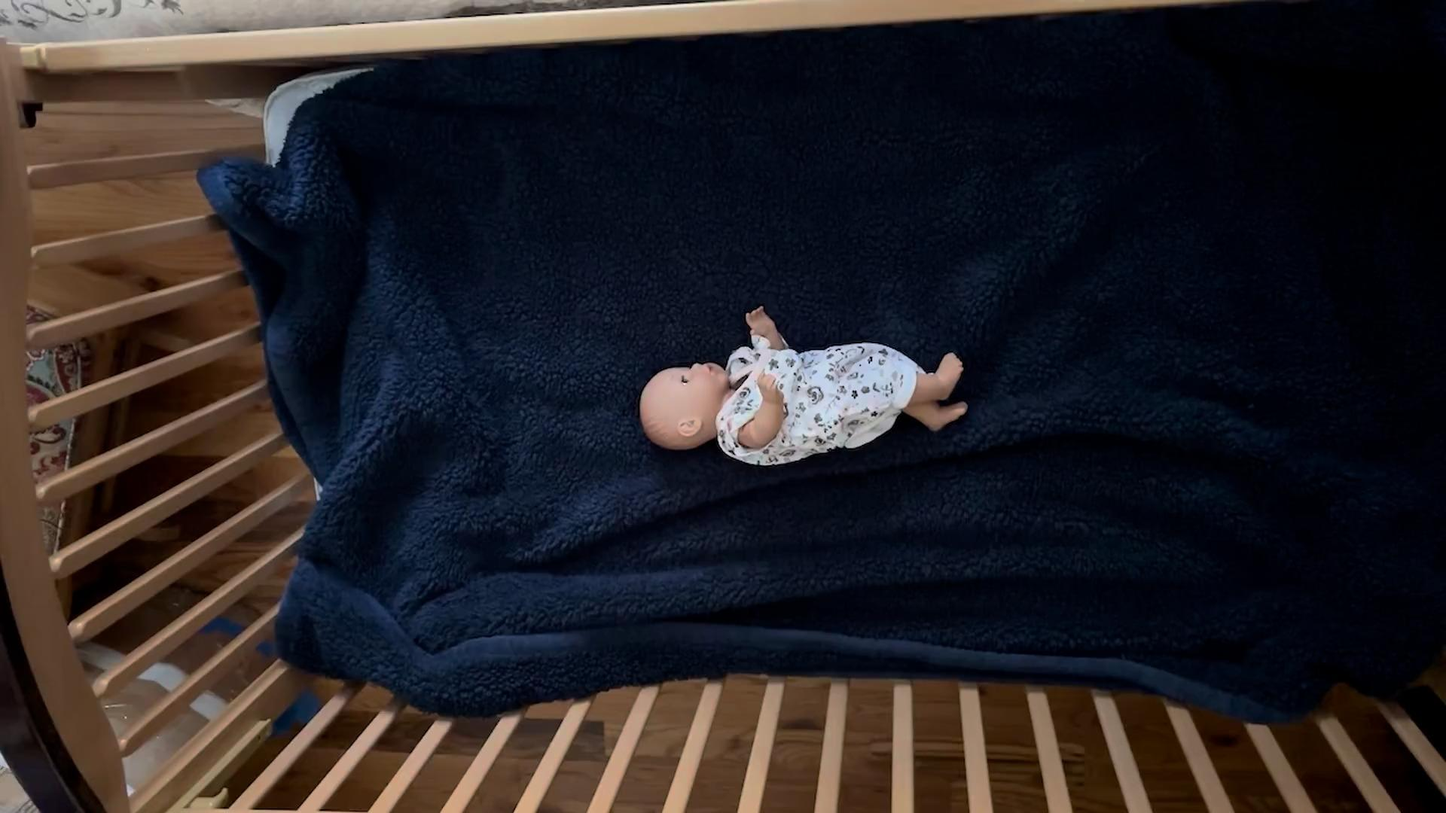baby: (635, 300, 971, 471)
